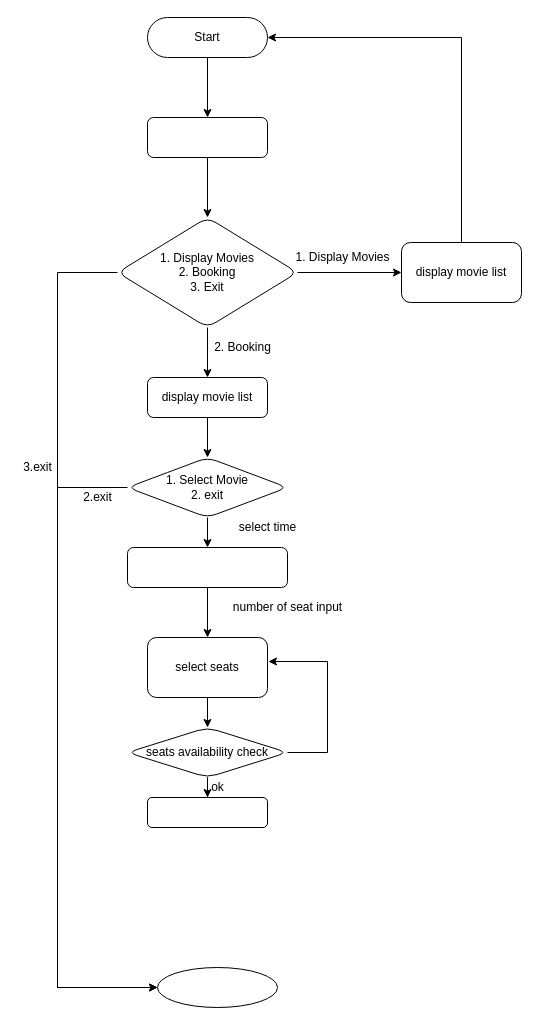
The diagram is 539 pixels wide and 1025 high, and some of its shapes have lost their labels. The centre of each missing label's shape, as x and y in pixels:
Booking instance create set selected movie: [207,567]
EXIT: [217,987]
Menu Display: [207,137]
show booking ticket: [207,812]
